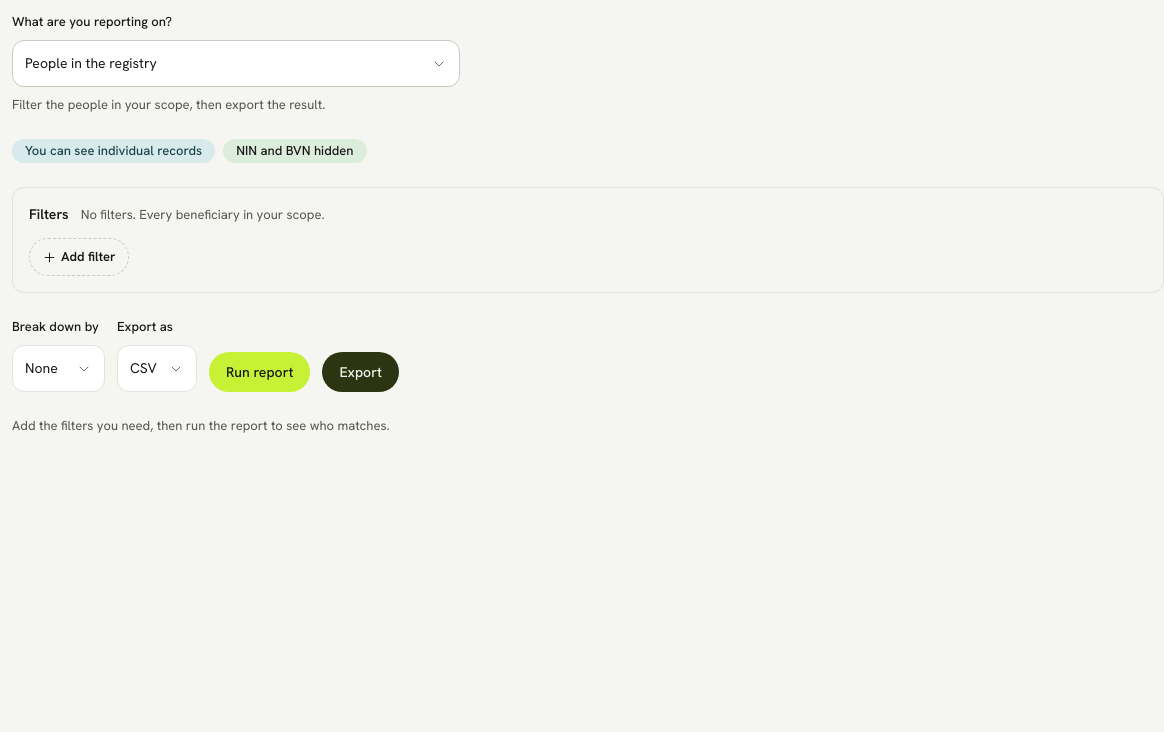
ReportBuilderPanel › offers the schema field a relationship resolves, and keeps it out of the chart
The width and height of the screenshot is (1164, 732).
Click the button "Add filter" at (79, 257), box [29, 238, 128, 276]
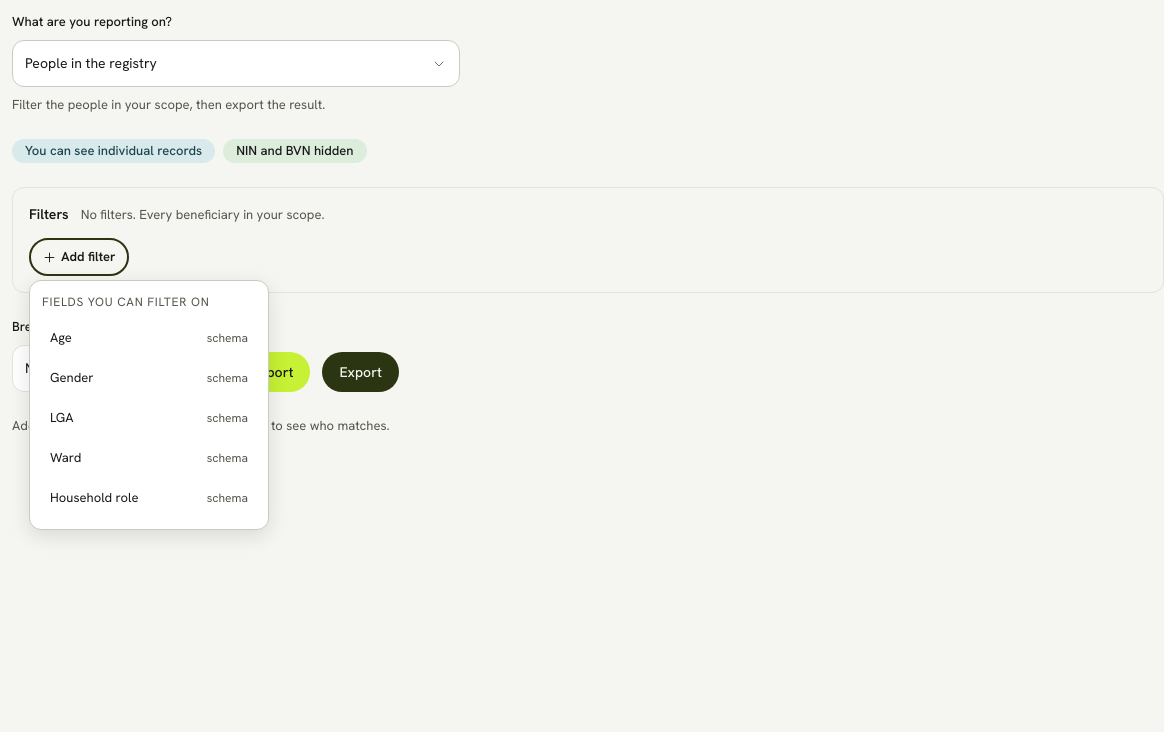
Result: the menu item "Household role schema" is shown at [42, 480, 256, 517]
